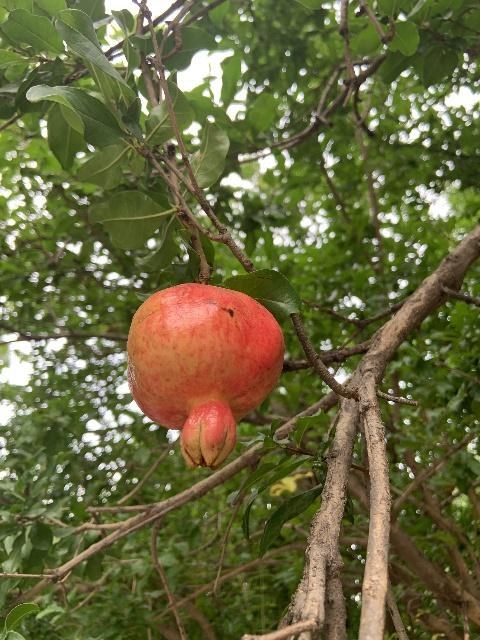ripe: (125, 283, 285, 472)
